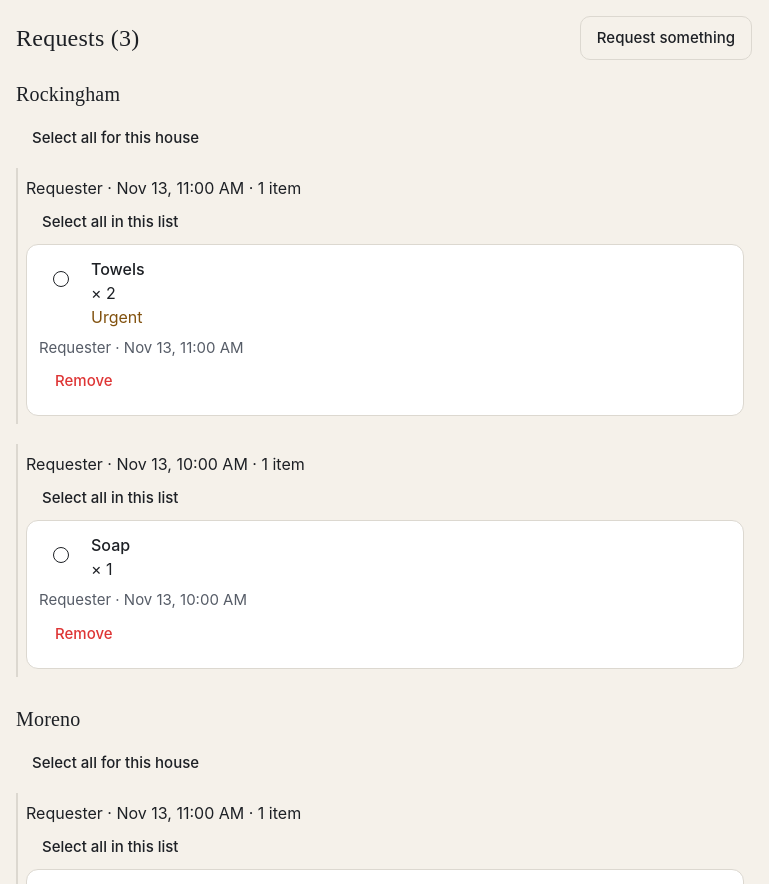
Test case: PA queue › select all in a list selects only that batch
Click the 1st button "Select all in this list" at (110,222), box [26,200,194,244]
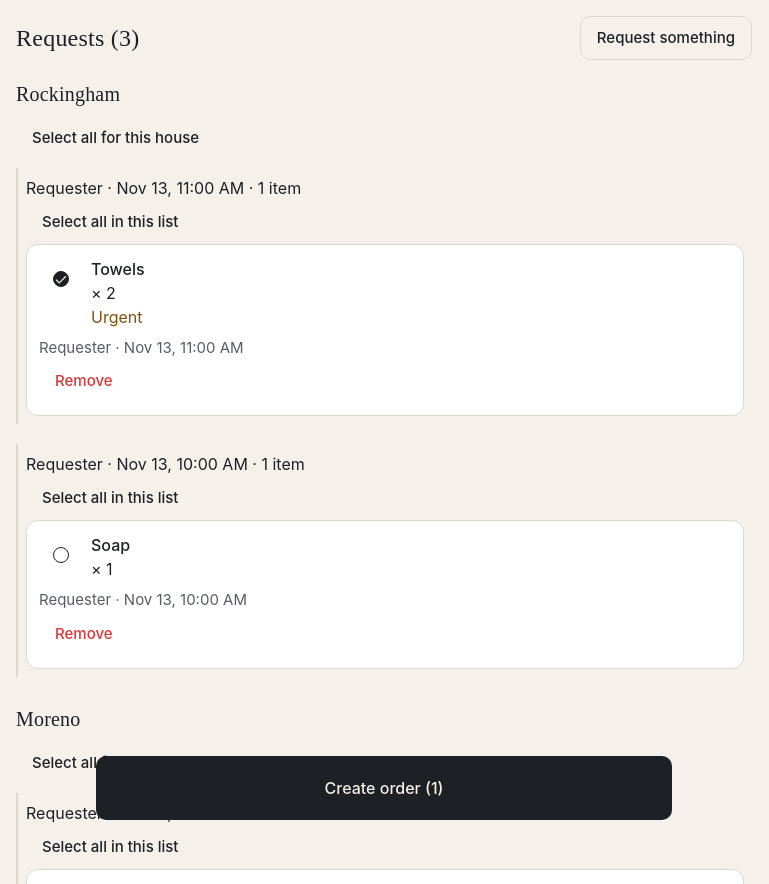
Check: the button "Create order (1)" is shown, box [96,756,672,820]
